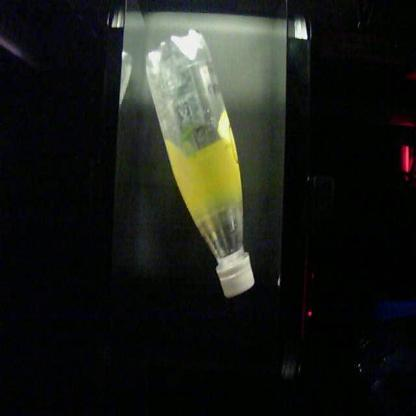Plastic Bottle: (147, 28, 255, 298)
